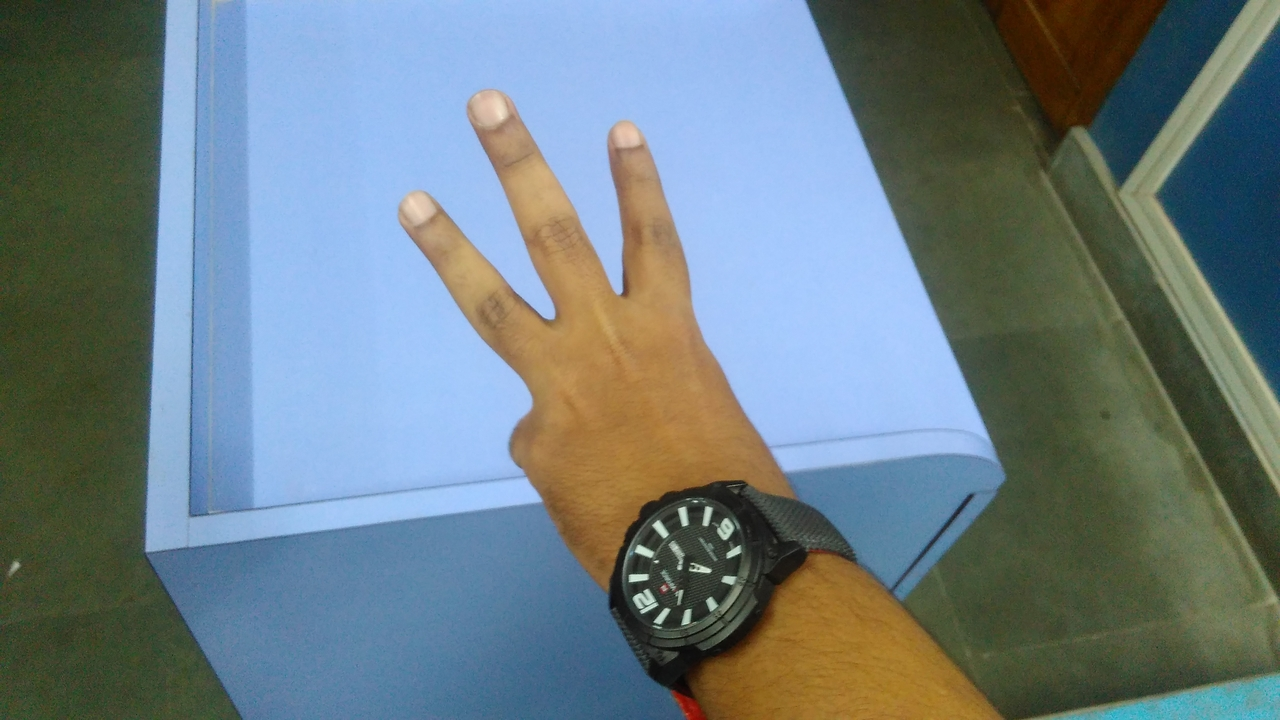fingertip: (382, 178, 456, 236), (458, 80, 526, 136), (598, 114, 664, 162)
